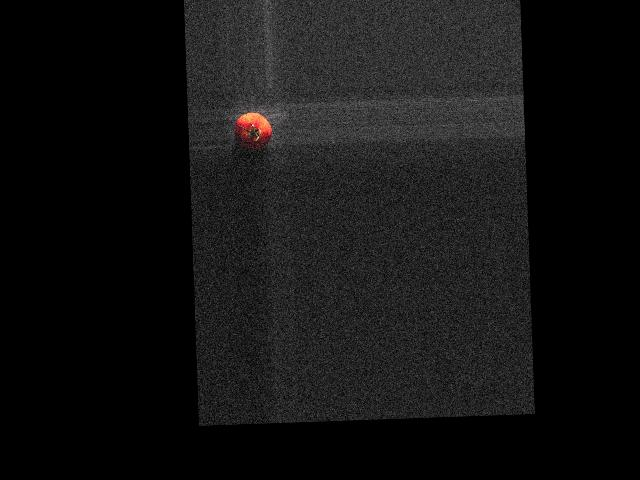tomato: (234, 112, 272, 150)
